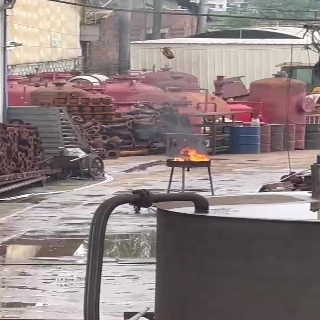fire: (172, 146, 208, 161)
